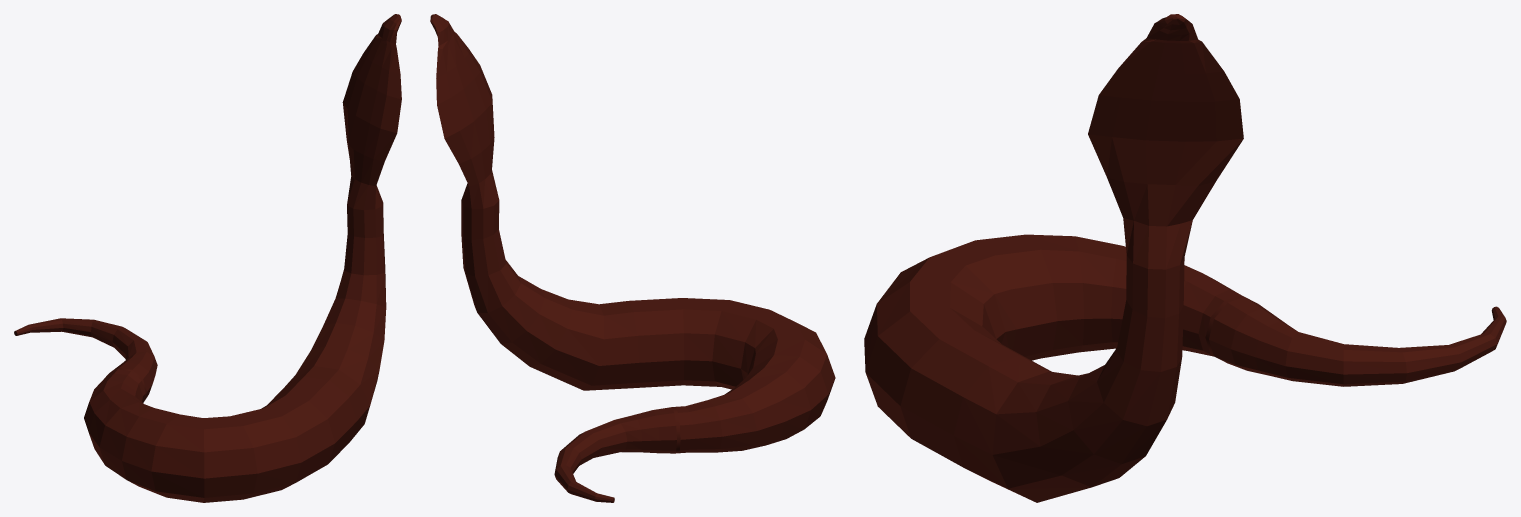
Rendered from Schlange.FBX.
The picture shows the model from 3 angles, left to right: view 1: azimuth 30°, elevation 25°; view 2: azimuth 150°, elevation 25°; view 3: azimuth 270°, elevation 25°; orthographic projection. The views are drawn at different scales.
Visible parts, largest first — view 1: Cylinder001; view 2: Cylinder001; view 3: Cylinder001.
Part boxes in pixels (box(x1,y1,x2,y2)): Cylinder001: box(14, 14, 401, 502); Cylinder001: box(430, 14, 835, 502); Cylinder001: box(864, 14, 1506, 502).
Size of the model in its own units: 132 by 137 by 142.
